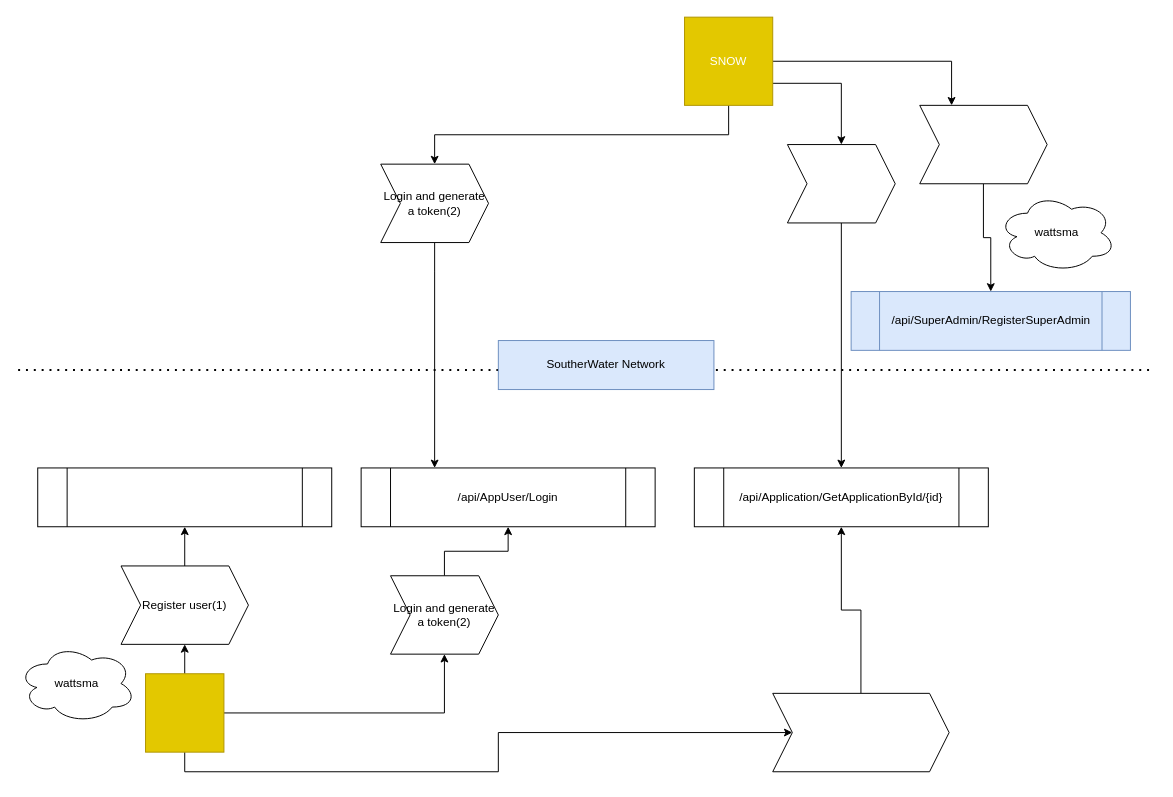
The diagram is 1173 pixels wide and 797 high, and some of its shapes have lost their labels. The centre of each missing label's shape, as x and y in pixels:
"/api/AppUser/Register" belongs at (184,497).
"Get application details passing user token(3)" belongs at (860,732).
"Get application details using passing user token(3)" belongs at (840,183).
"Register As Super Admin User(1)" belongs at (983,144).
"User Interface" belongs at (184,712).
